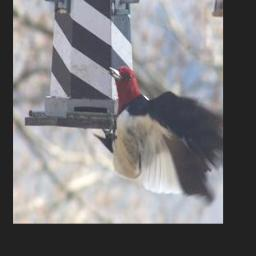Woodpecker: (97, 57, 223, 200)
